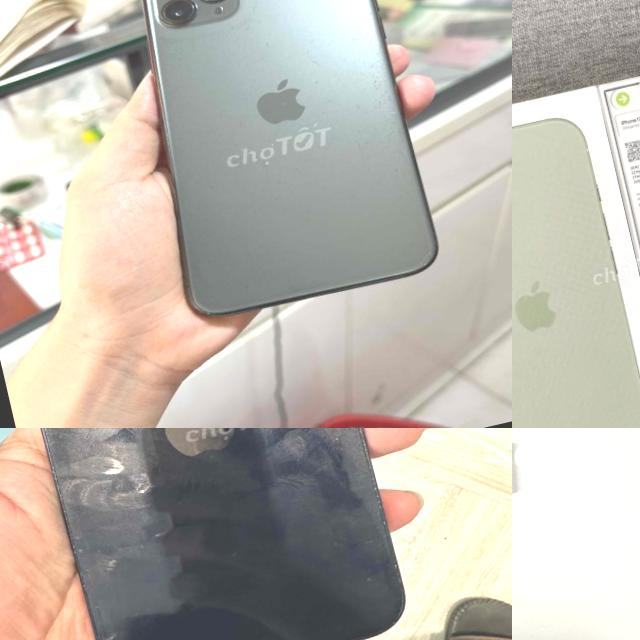gen_11: (110, 0, 448, 333)
gen_14: (0, 428, 431, 640)
gen_16: (512, 428, 640, 640)
gen_17: (512, 102, 640, 428)
